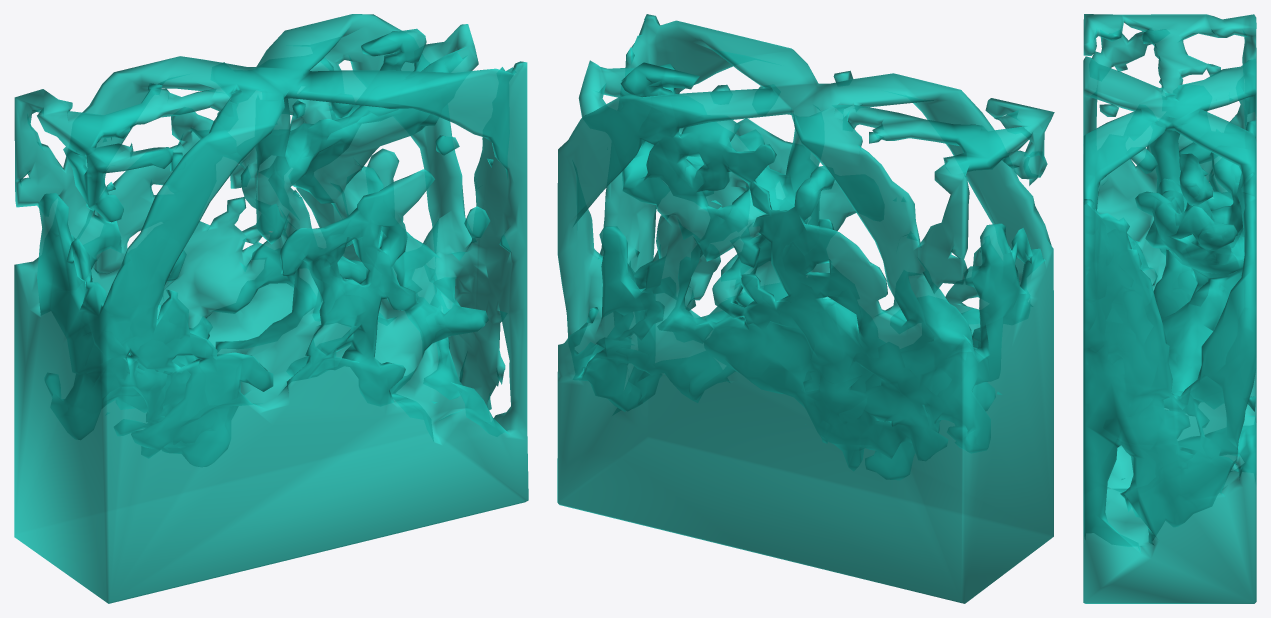
The picture shows the model from 3 angles, left to right: view 1: azimuth 30°, elevation 25°; view 2: azimuth 150°, elevation 25°; view 3: azimuth 270°, elevation 25°; orthographic projection. The views are drawn at different scales.
Parts seen in each view (by area): view 1: Liquid_Domain; view 2: Liquid_Domain; view 3: Liquid_Domain.
Part boxes in pixels (<box>): Liquid_Domain: <box>14,14,528,603</box>; Liquid_Domain: <box>557,14,1054,603</box>; Liquid_Domain: <box>1083,14,1256,603</box>.
Size of the model in its own units: 1966 by 1965 by 766.
